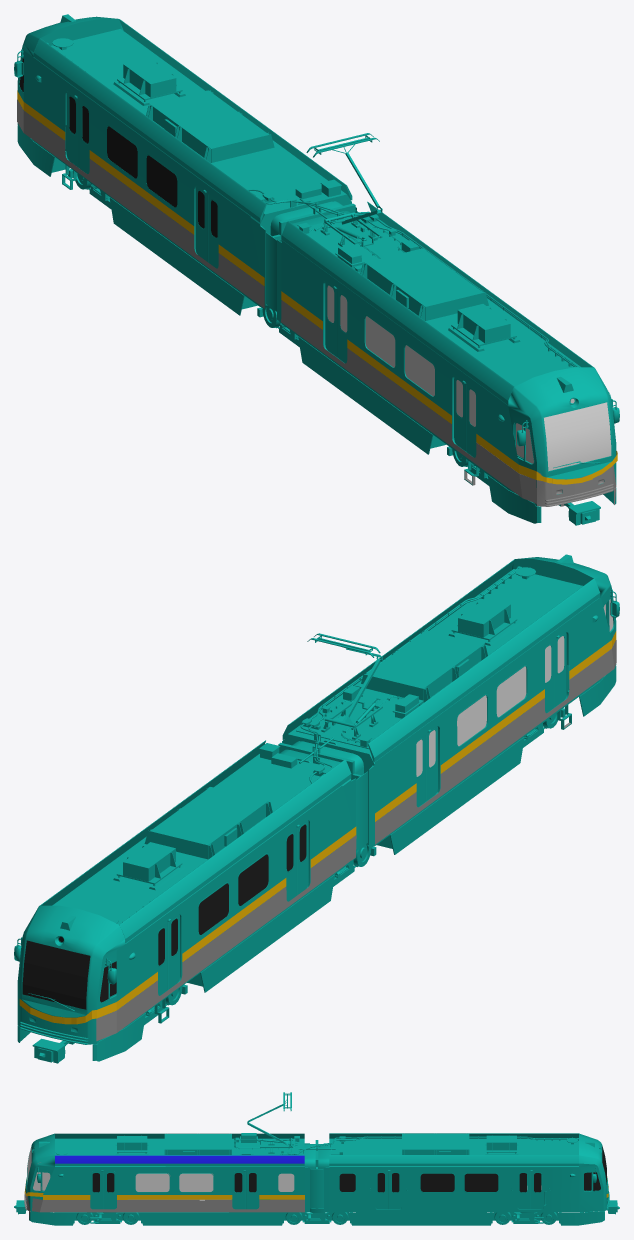
File: Updated_tectured_metro.fbx
3 renders of one model, top to bottom at view 1: azimuth 30°, elevation 25°; view 2: azimuth 150°, elevation 25°; view 3: azimuth 270°, elevation 25°, orthographic. The views are drawn at different scales.
Parts seen in each view (by area): view 1: Body_1, Body_2, Upper part_metro.008, Upper part_metro, gl_2, Lower_part_metro, Lower_part_metro.004, gl_1, Upper part_metro.005, Body_1.001, Upper part_metro.003, Center_Section (+4 smaller); view 2: Body_2, Body_1, Upper part_metro.008, Upper part_metro, gl_1, Lower_part_metro.004, Lower_part_metro, Upper part_metro.005, gl_2, Upper part_metro.003, Center_Section, dr_5 (+3 smaller); view 3: Body_2, Body_1, Upper part_metro.007, Lower_part_metro.003, gl_1, gl_2, Upper part_metro.006, dr_3, dr_2, dl_4, dl_1, Center_Section (+7 smaller).
Part boxes in pixels (x1,y1,x2,y2): Body_1: (277,133,619,525); Body_2: (14,14,356,315); Upper part_metro.008: (23,51,261,274); Upper part_metro: (281,240,518,464); gl_2: (365,316,611,471); Lower_part_metro: (281,300,536,503); Lower_part_metro.004: (17,99,264,308); gl_1: (19,58,177,207); Upper part_metro.005: (17,90,264,286); Body_1.001: (464,465,616,506); Upper part_metro.003: (281,291,518,472); Center_Section: (266,198,358,311); Body_2: (14,740,355,1063); Body_1: (282,554,619,854); Upper part_metro.008: (116,786,353,1001); Upper part_metro: (375,597,611,813); gl_1: (22,854,268,1009); Lower_part_metro.004: (96,835,356,1041); Lower_part_metro: (375,640,616,844); Upper part_metro.005: (19,826,356,1024); gl_2: (457,599,613,746); Upper part_metro.003: (375,640,611,821); Center_Section: (278,737,367,851); dr_5: (425,632,566,801); Body_2: (315,1133,619,1225); Body_1: (14,1092,316,1225); Upper part_metro.007: (43,1166,304,1194); Lower_part_metro.003: (32,1198,304,1212); gl_1: (339,1146,606,1191); gl_2: (27,1146,294,1191); Upper part_metro.006: (43,1195,304,1199); dr_3: (103,1171,258,1209); dr_2: (388,1171,543,1209); dl_4: (90,1171,245,1209); dl_1: (375,1171,530,1209); Center_Section: (298,1140,335,1209).
Bounding box in the file's own units: 342 × 687 × 3195.
